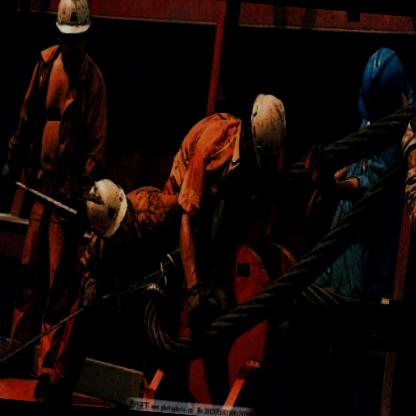helmet: (354, 42, 410, 125), (237, 90, 290, 174), (79, 178, 139, 248), (49, 0, 94, 68)
